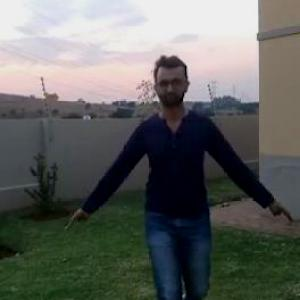land: (91, 66, 271, 299)
